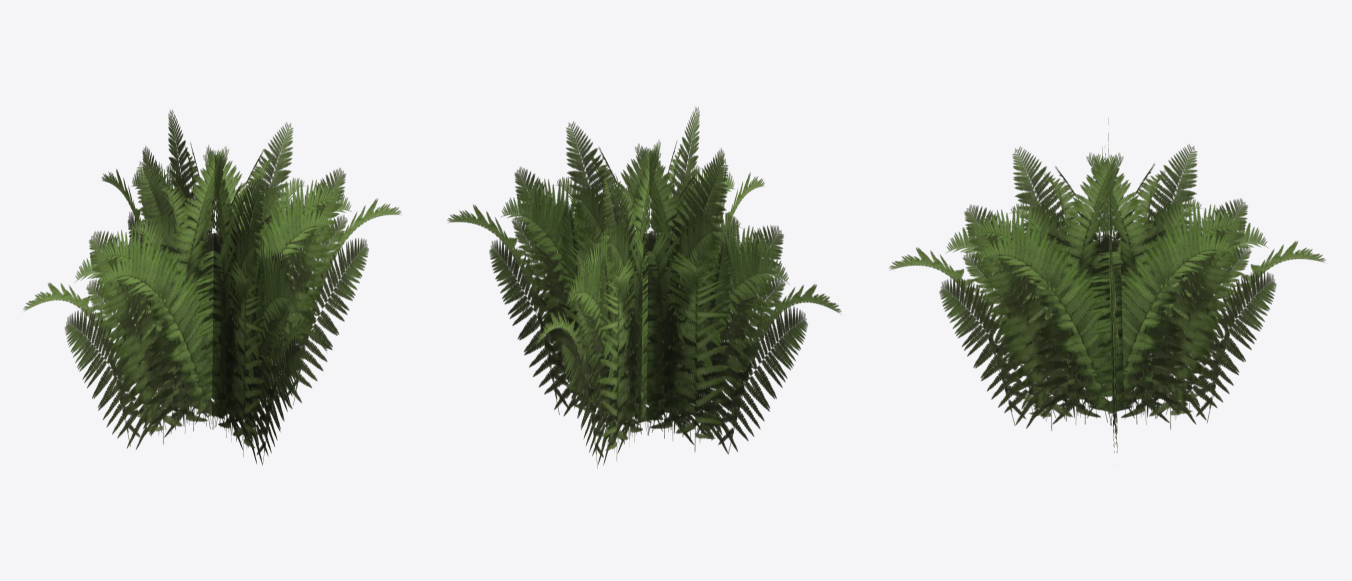
Rendered from fern_clump.glb.
3 renders of one model, left to right at view 1: azimuth 30°, elevation 25°; view 2: azimuth 150°, elevation 25°; view 3: azimuth 270°, elevation 25°, orthographic. The views are drawn at different scales.
Visible parts, largest first — view 1: pPlane5_w; view 2: pPlane5_w; view 3: pPlane5_w.
Boxes of the visible parts, x1,y1,x2,y2 form: pPlane5_w: (23,109,401,465); pPlane5_w: (447,106,841,468); pPlane5_w: (889,118,1325,452).
Bounding box in the file's own units: 0.9123 × 0.85 × 0.9471.
Materials: 1 (1 with a texture image).
